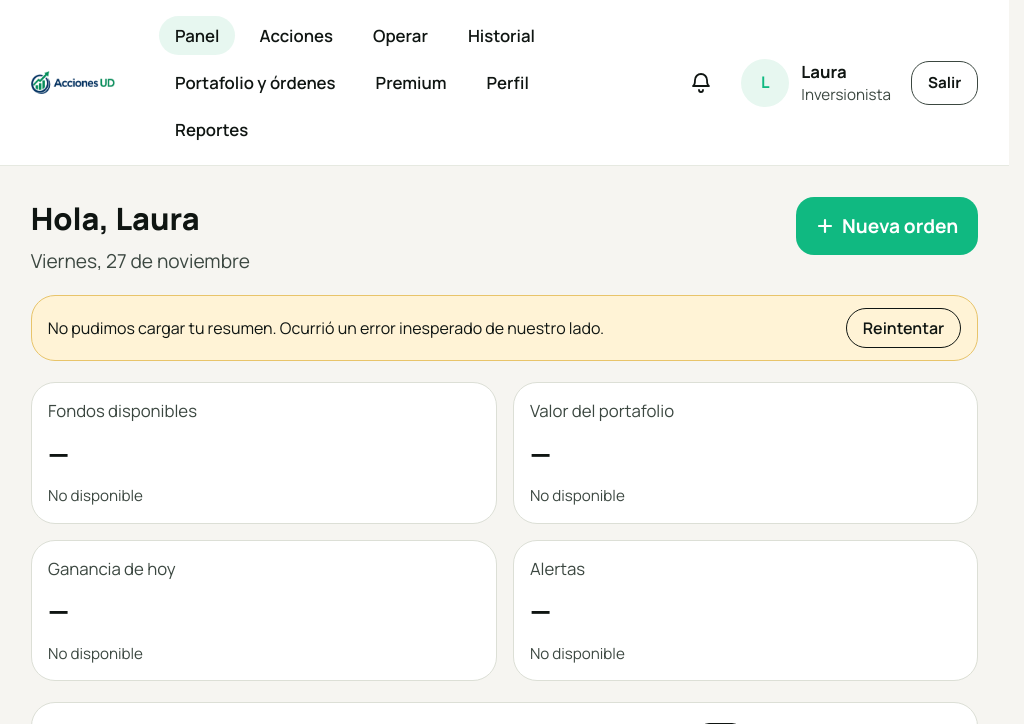
Test: panel del inversionista con datos de la API › si no llega nada, avisa y permite reintentar
Expected: the text "No pudimos cargar tu resumen" is shown, [48, 317, 280, 339]
Click the button "Reintentar": (904, 328) [846, 308, 961, 348]
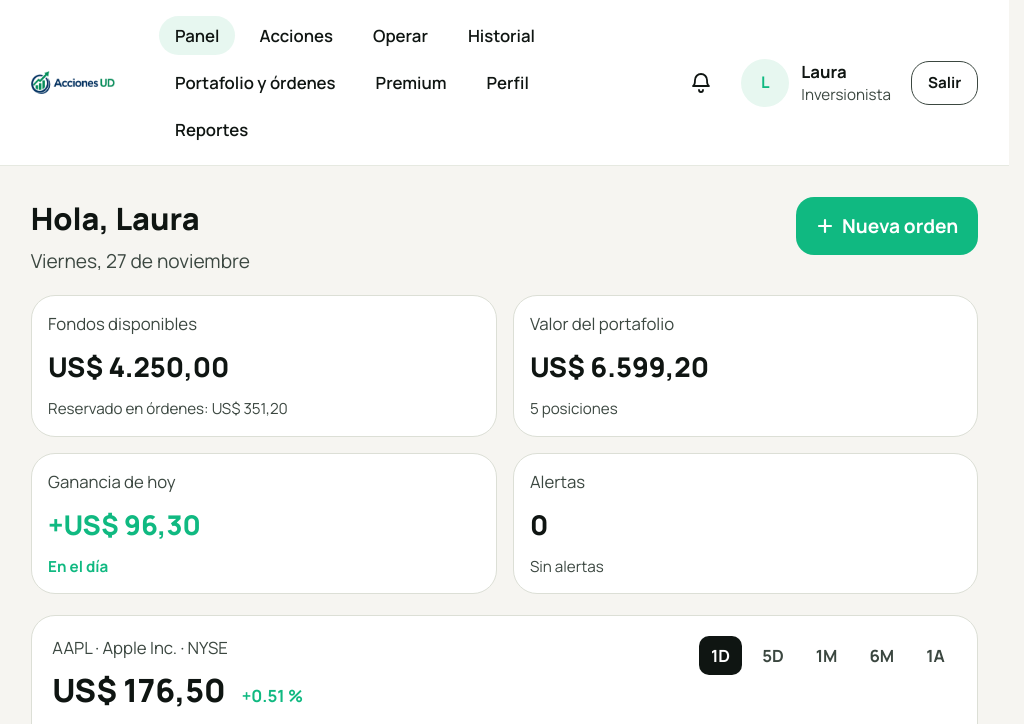
Expected: the text "No pudimos cargar tu resumen" is gone
Expected: the text "Fondos disponibles" shows "4.250,00", [48, 348, 229, 385]
